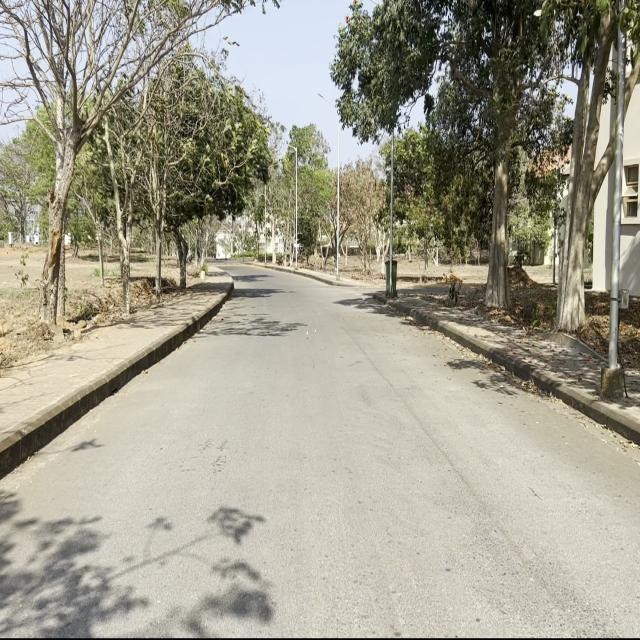Road: (4, 268, 635, 633)
